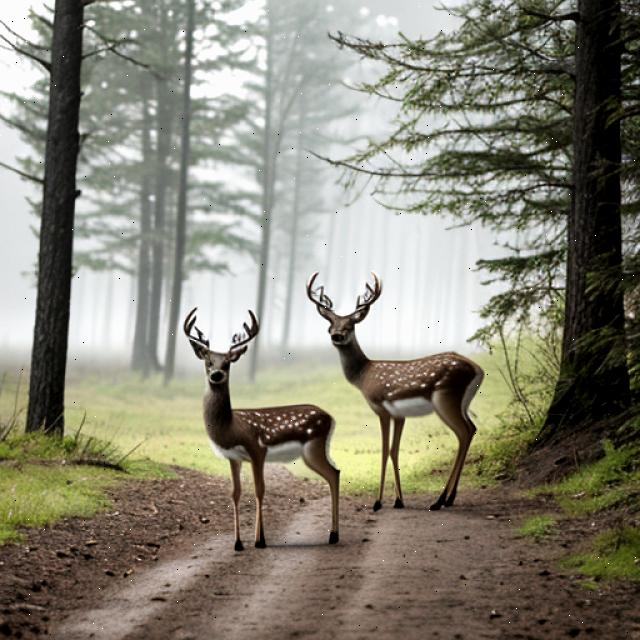deer: (312, 276, 500, 501), (173, 305, 334, 558)
